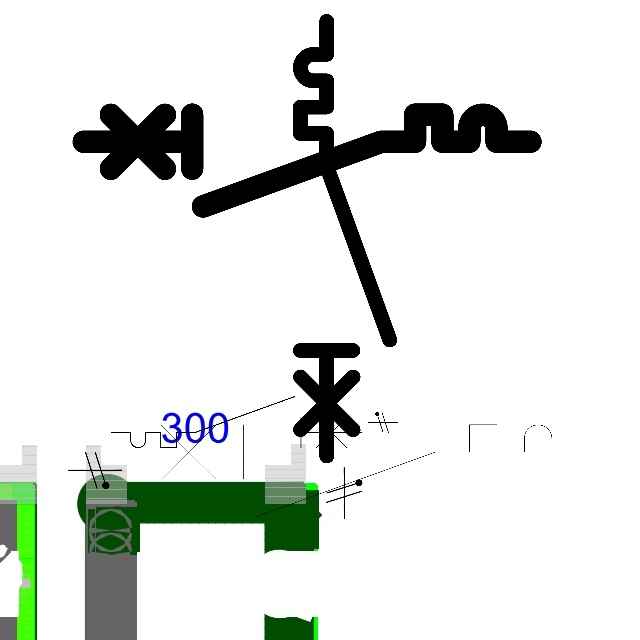interruptor_termomagnetico: (121, 413, 597, 529), (72, 103, 542, 218), (289, 10, 401, 467), (105, 390, 368, 454)
